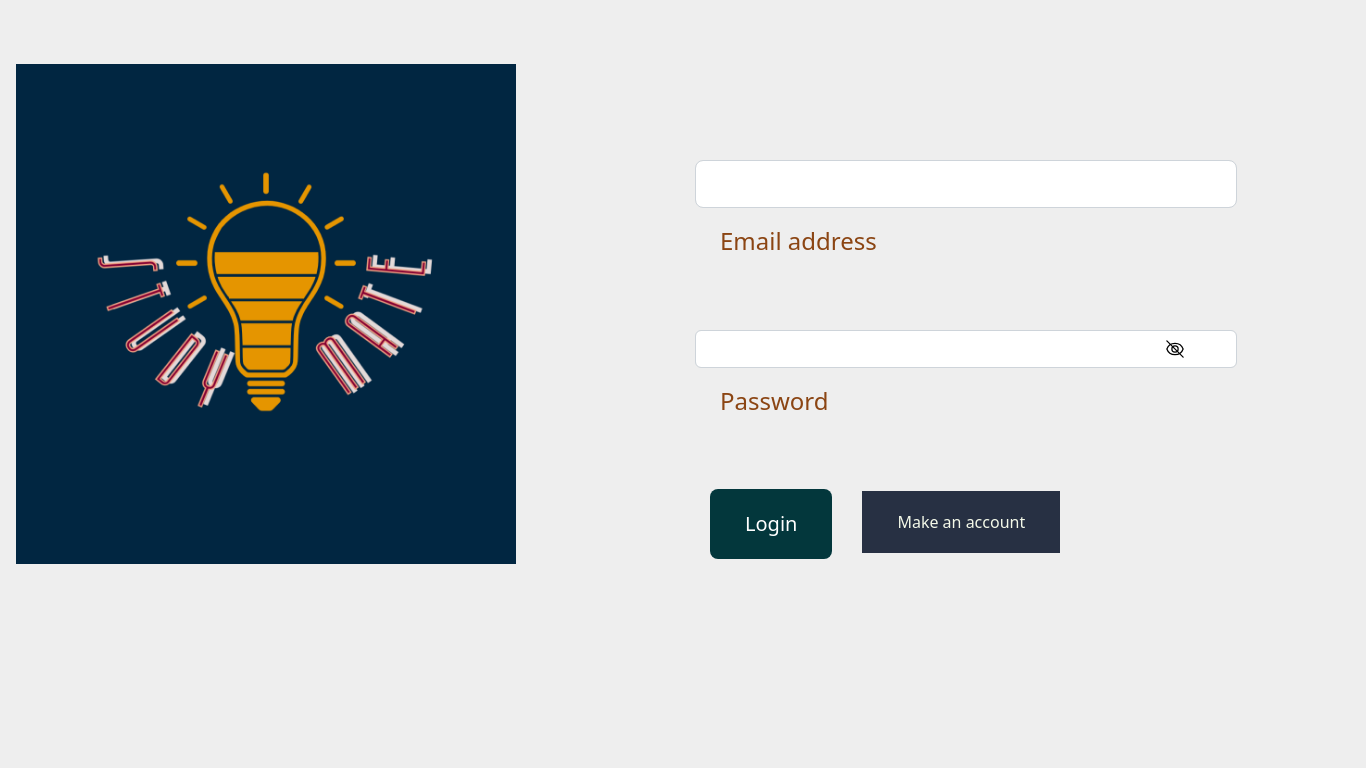
Scenario: Login › login invalid pass or email
Step 1. Type "denitsa@abv.com" into the field with id "email" → (966, 184), box left=695, top=160, right=1237, bottom=208
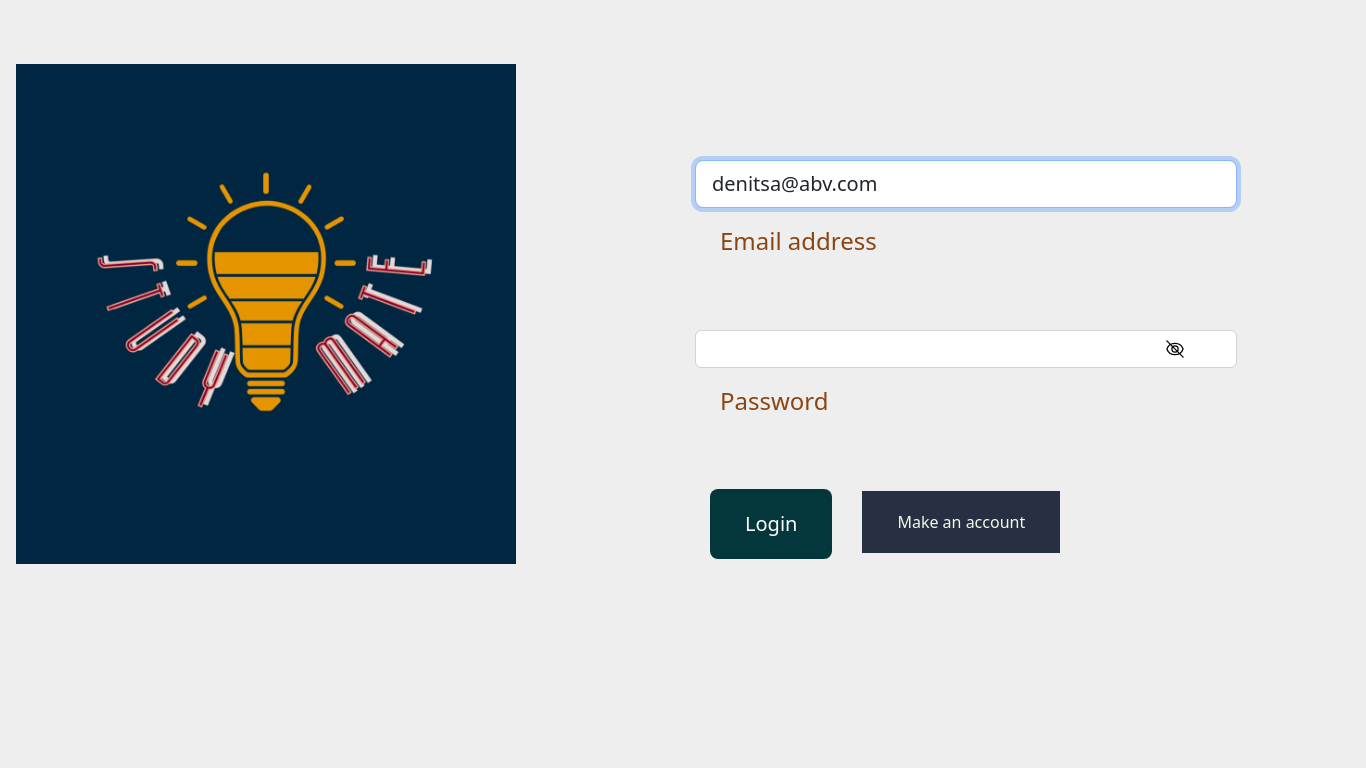
Step 2. Type "123" into the password field labelled "Password" → (966, 349), box left=695, top=330, right=1237, bottom=368
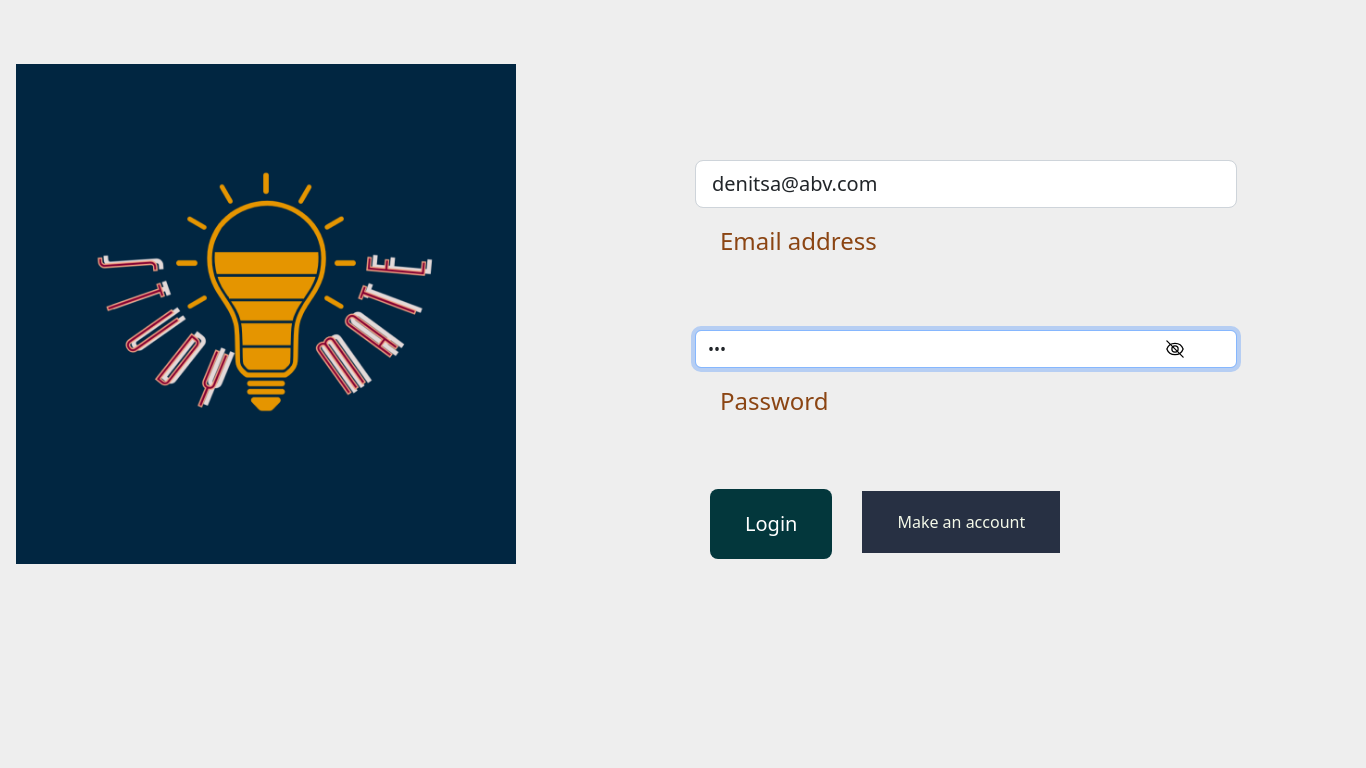
Step 3. Submit the form
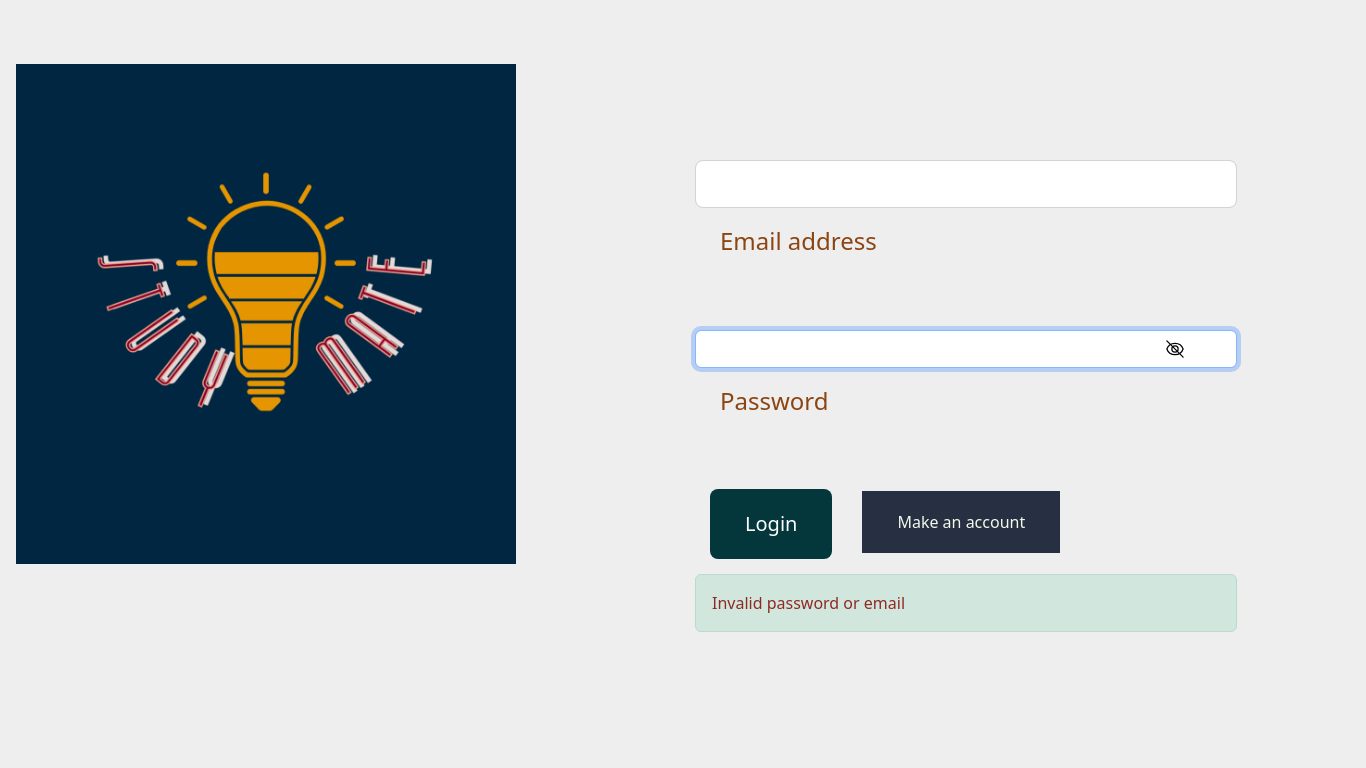
Expected: the text "Invalid password or email" is shown, left=695, top=574, right=1237, bottom=632
